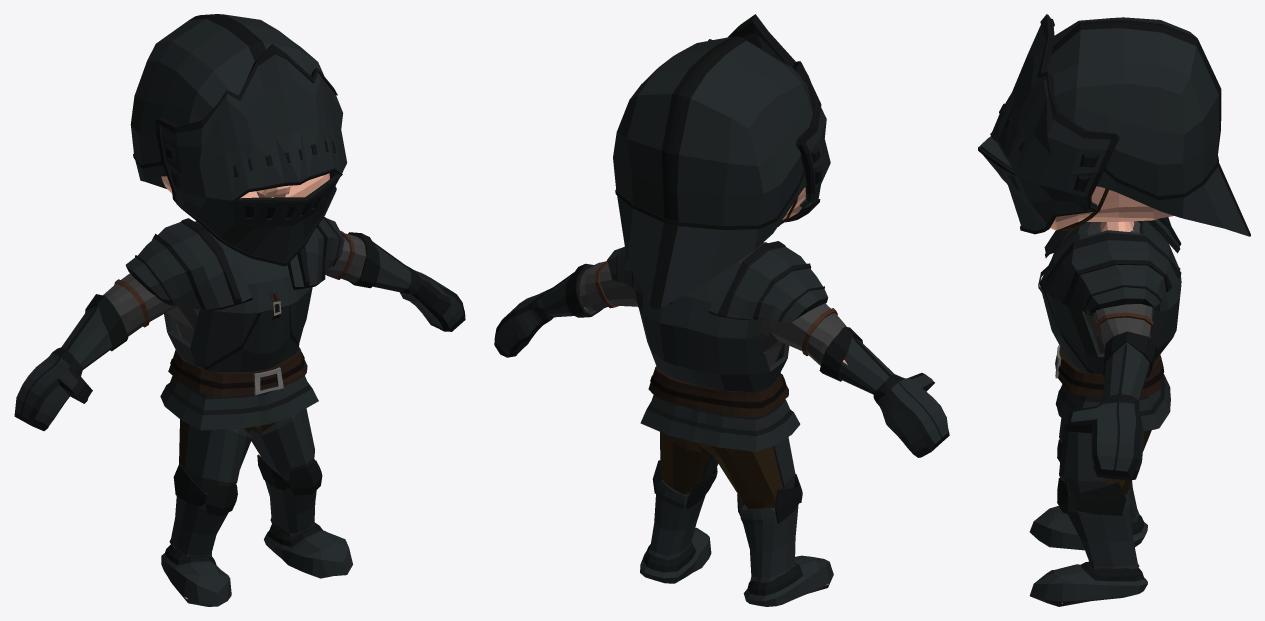
Rendered from Rogue_Knight.fbx.
3 renders of one model, left to right at view 1: azimuth 30°, elevation 25°; view 2: azimuth 150°, elevation 25°; view 3: azimuth 270°, elevation 25°, orthographic.
Parts seen in each view (by area): view 1: Cube.007; view 2: Cube.007; view 3: Cube.007.
Part boxes in pixels (<box>): Cube.007: <box>14,14,465,606</box>; Cube.007: <box>494,14,949,606</box>; Cube.007: <box>978,14,1250,606</box>.
Size of the model in its own units: 342 by 409 by 182.
